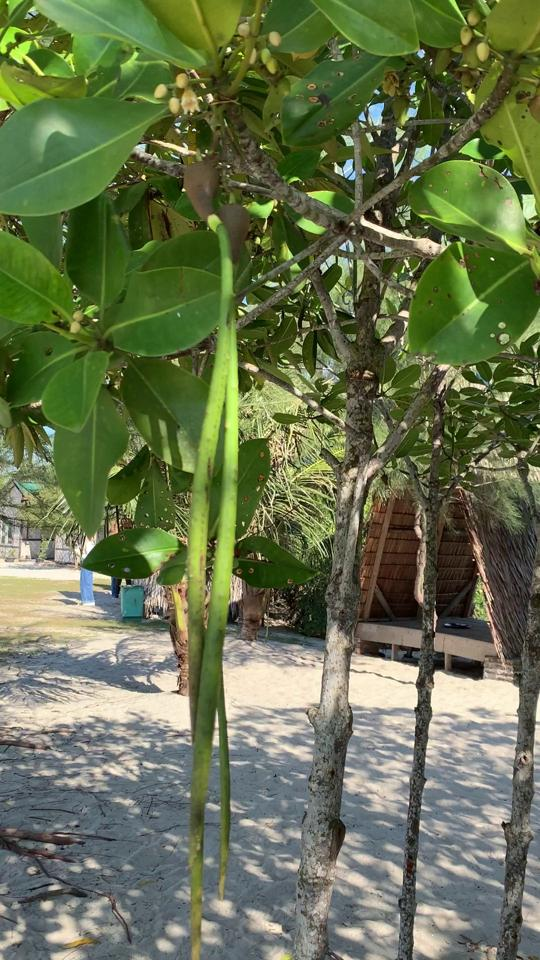setengah matang: (174, 144, 252, 753)
